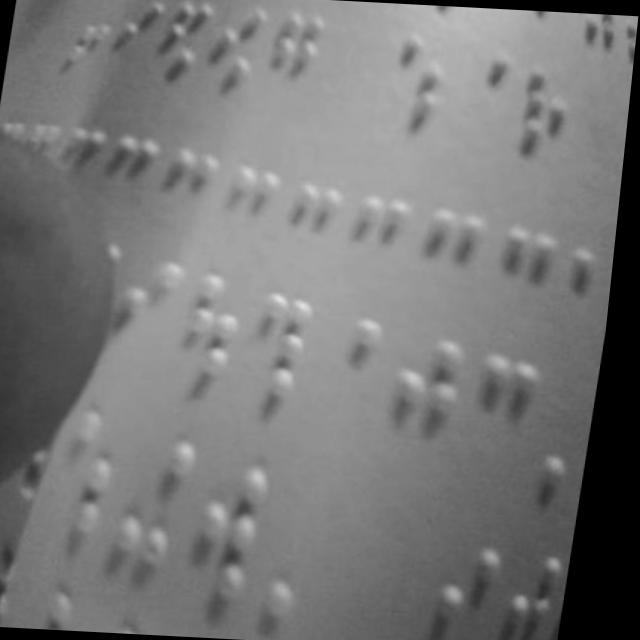braiile: (118, 421, 211, 575), (192, 458, 285, 604), (467, 344, 560, 488), (387, 332, 476, 480), (241, 278, 327, 416), (110, 248, 194, 389), (173, 258, 259, 392), (315, 310, 395, 443), (497, 524, 585, 640), (434, 525, 515, 640), (380, 11, 454, 134), (502, 42, 579, 159), (451, 31, 514, 143), (201, 0, 270, 96), (261, 1, 324, 106), (150, 0, 211, 93)
